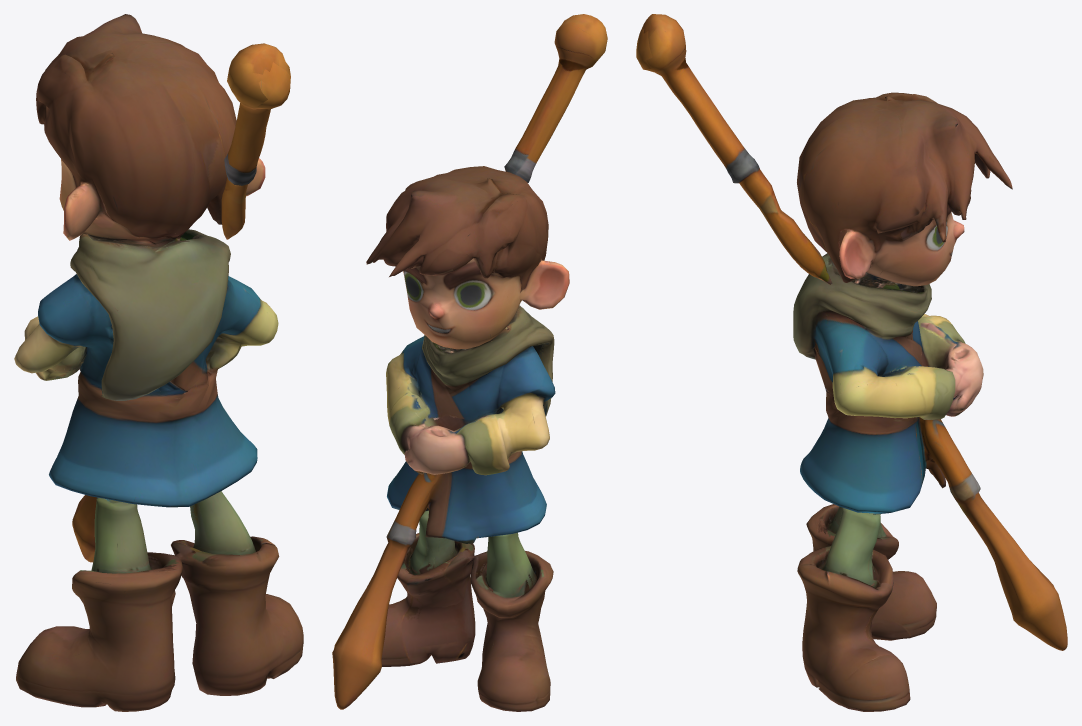
File: player_texture.glb
The picture shows the model from 3 angles, left to right: view 1: azimuth 30°, elevation 25°; view 2: azimuth 150°, elevation 25°; view 3: azimuth 270°, elevation 25°; orthographic projection. The views are drawn at different scales.
Parts seen in each view (by area): view 1: Mesh_0; view 2: Mesh_0; view 3: Mesh_0.
Boxes of the visible parts, x1=… form: Mesh_0: x1=14, y1=14, x2=303, y2=711; Mesh_0: x1=332, y1=14, x2=607, y2=711; Mesh_0: x1=636, y1=14, x2=1067, y2=711.
Size of the model in its own units: 0.742 by 2 by 1.24.
Materials: 1 (1 with a texture image).
